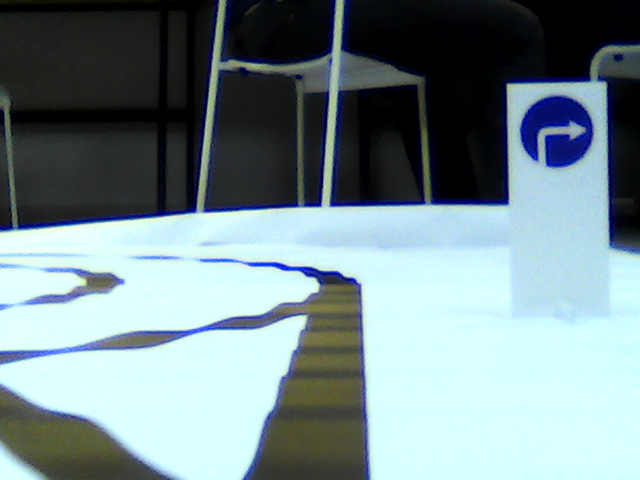Right: (518, 93, 597, 167)
